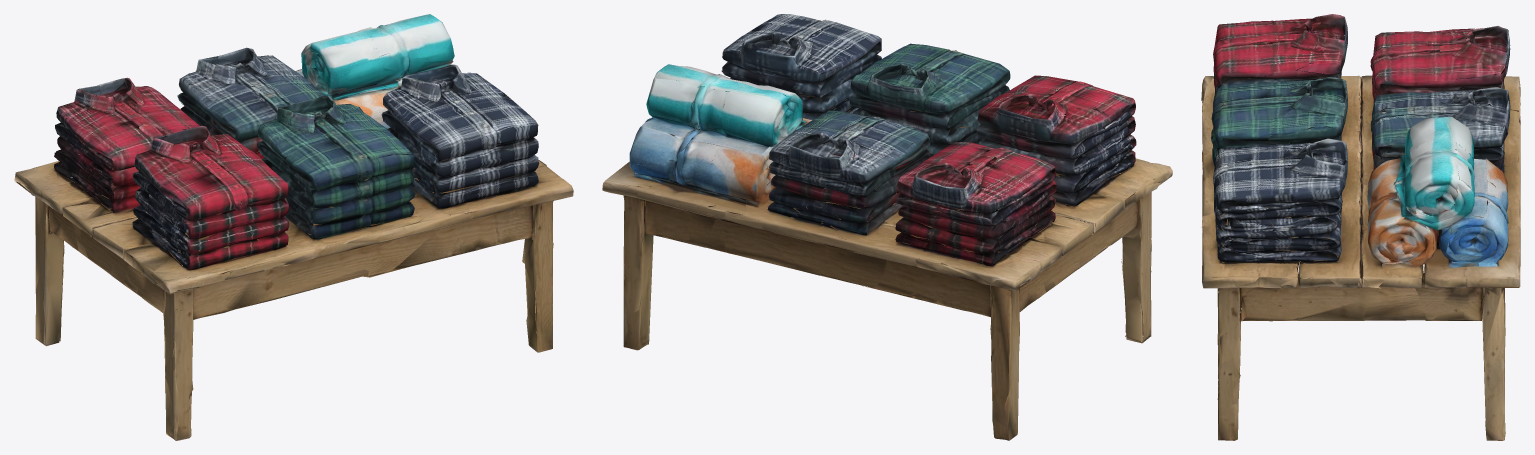
Rendered from CCG_FlannelTable.fbx.
3 views of the same model, side by side, from view 1: azimuth 30°, elevation 25°; view 2: azimuth 150°, elevation 25°; view 3: azimuth 270°, elevation 25° (orthographic). The views are drawn at different scales.
Parts seen in each view (by area): view 1: tripo_node_f077e7f0-742b-445d-ad9f-7b164fd811ca; view 2: tripo_node_f077e7f0-742b-445d-ad9f-7b164fd811ca; view 3: tripo_node_f077e7f0-742b-445d-ad9f-7b164fd811ca.
Boxes of the visible parts, x1,y1,x2,y2 form: tripo_node_f077e7f0-742b-445d-ad9f-7b164fd811ca: (14,14,573,440); tripo_node_f077e7f0-742b-445d-ad9f-7b164fd811ca: (602,14,1172,440); tripo_node_f077e7f0-742b-445d-ad9f-7b164fd811ca: (1201,14,1520,440).
Bounding box in the file's own units: 0.9843 × 0.5926 × 0.6539.
1 material, 1 textured.
